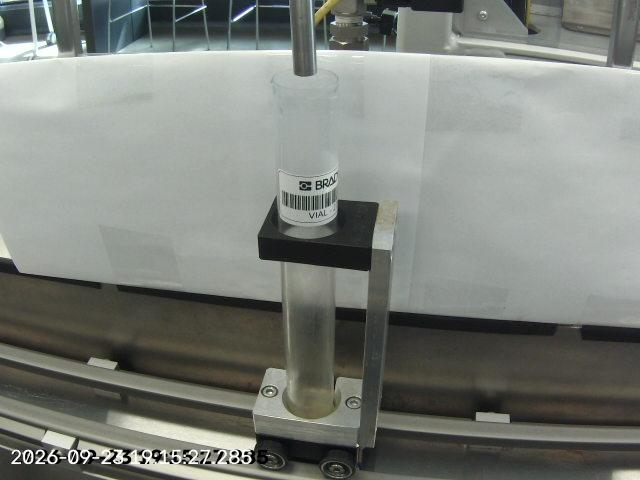vial: (257, 61, 368, 439)
